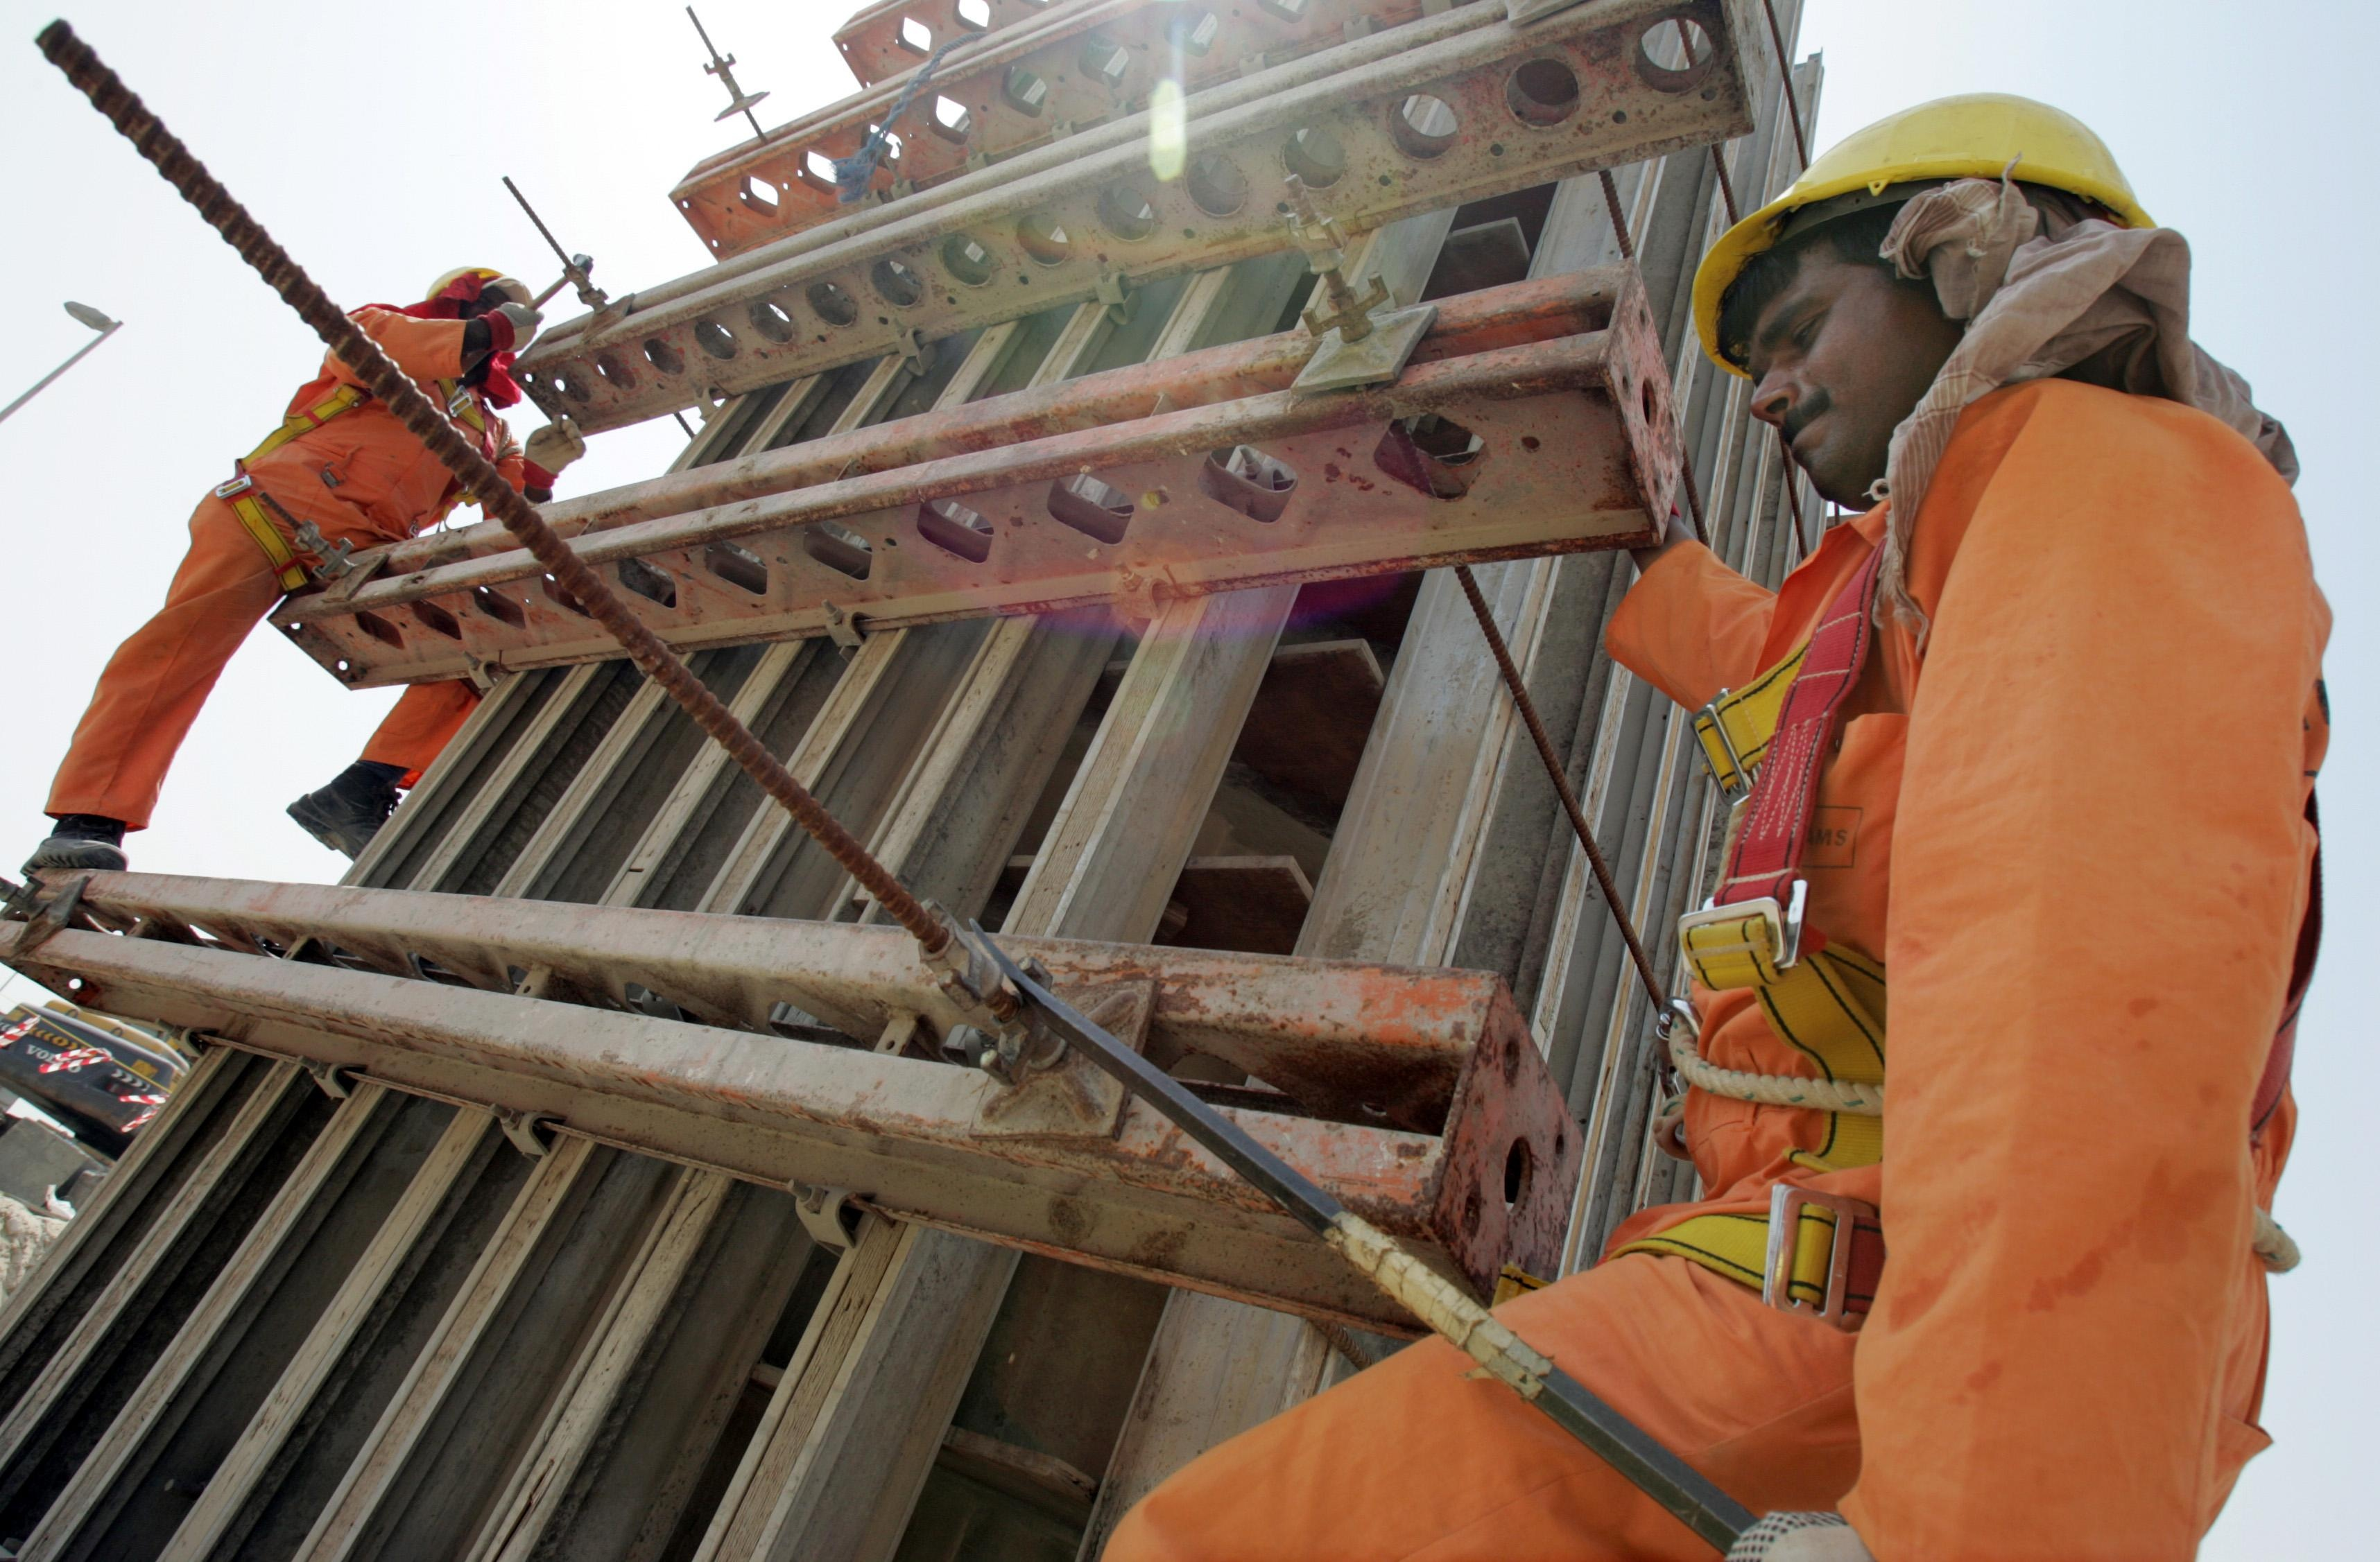yellow: (1719, 91, 2159, 485), (427, 265, 530, 370)
